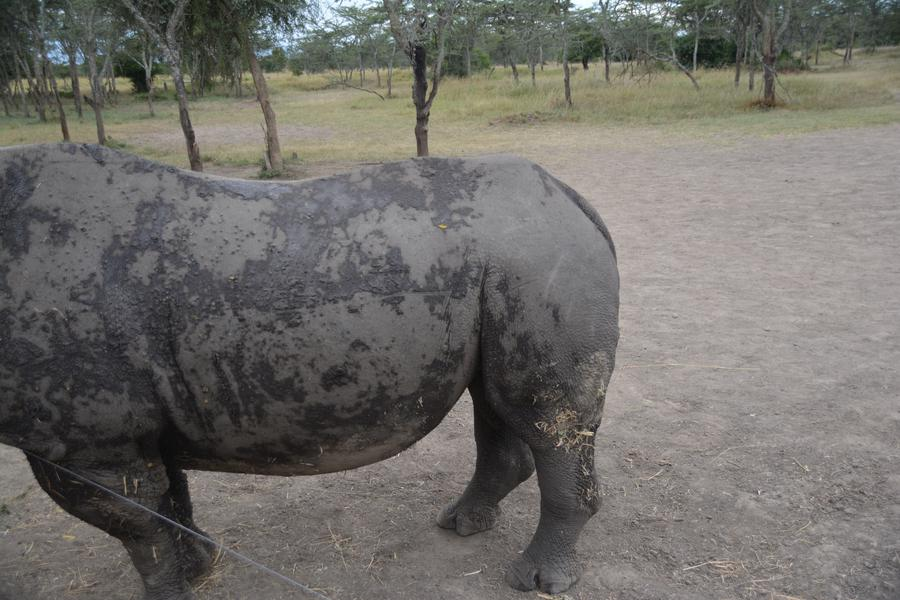rhino: (54, 136, 602, 541)
